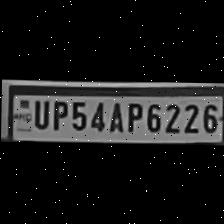2: (161, 100, 181, 134), (179, 100, 199, 133)
4: (88, 98, 106, 132)
5: (66, 98, 86, 132)
6: (141, 99, 161, 132), (198, 100, 218, 132)
A: (104, 98, 124, 132)
P: (122, 99, 142, 132), (47, 97, 66, 131)
U: (28, 96, 48, 129)
